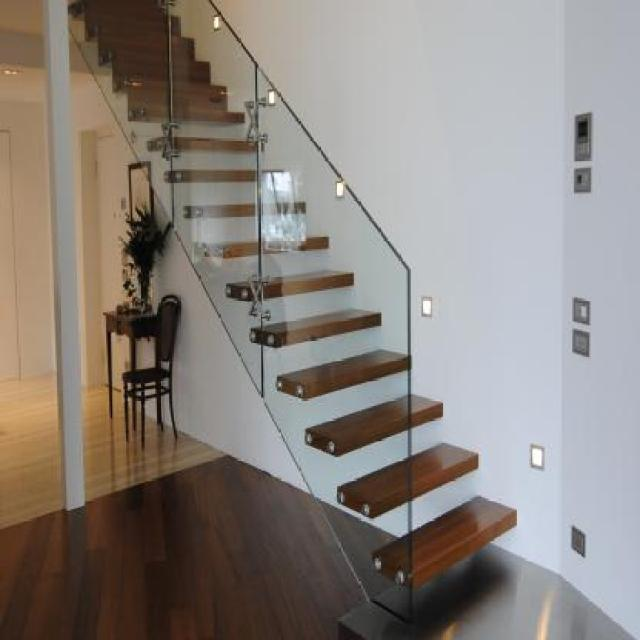stair: (71, 1, 531, 570)
